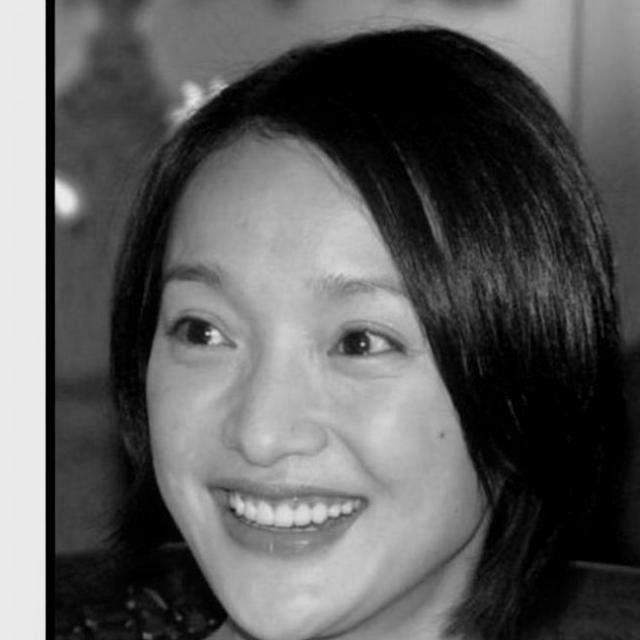real: (122, 79, 504, 640)
